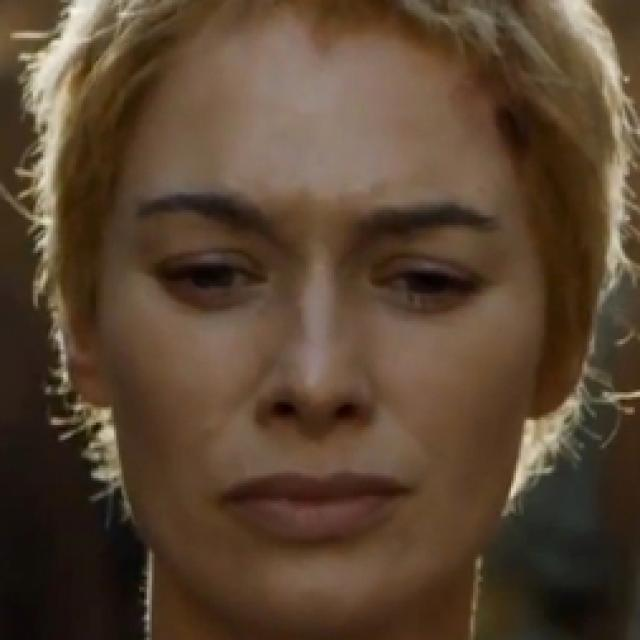Depress: (94, 24, 541, 637)
